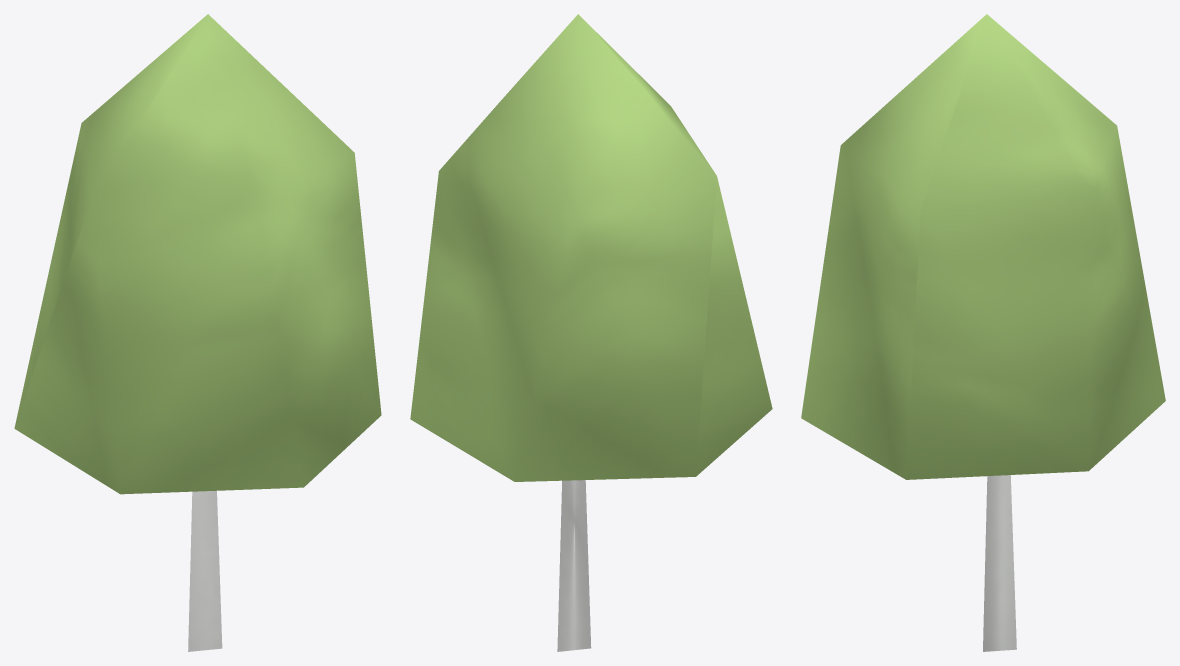
3 views of the same model, side by side, from view 1: azimuth 30°, elevation 25°; view 2: azimuth 150°, elevation 25°; view 3: azimuth 270°, elevation 25° (orthographic).
Visible parts, largest first — view 1: LOD2Berez.001; view 2: LOD2Berez.001; view 3: LOD2Berez.001.
Boxes of the visible parts, box(x1,y1,x2,y2) form: LOD2Berez.001: box(14, 14, 381, 651); LOD2Berez.001: box(410, 14, 772, 651); LOD2Berez.001: box(801, 14, 1165, 651).
Bounding box in the file's own units: 9.45 × 19.86 × 10.38.
Materials: 1 (1 with a texture image).
